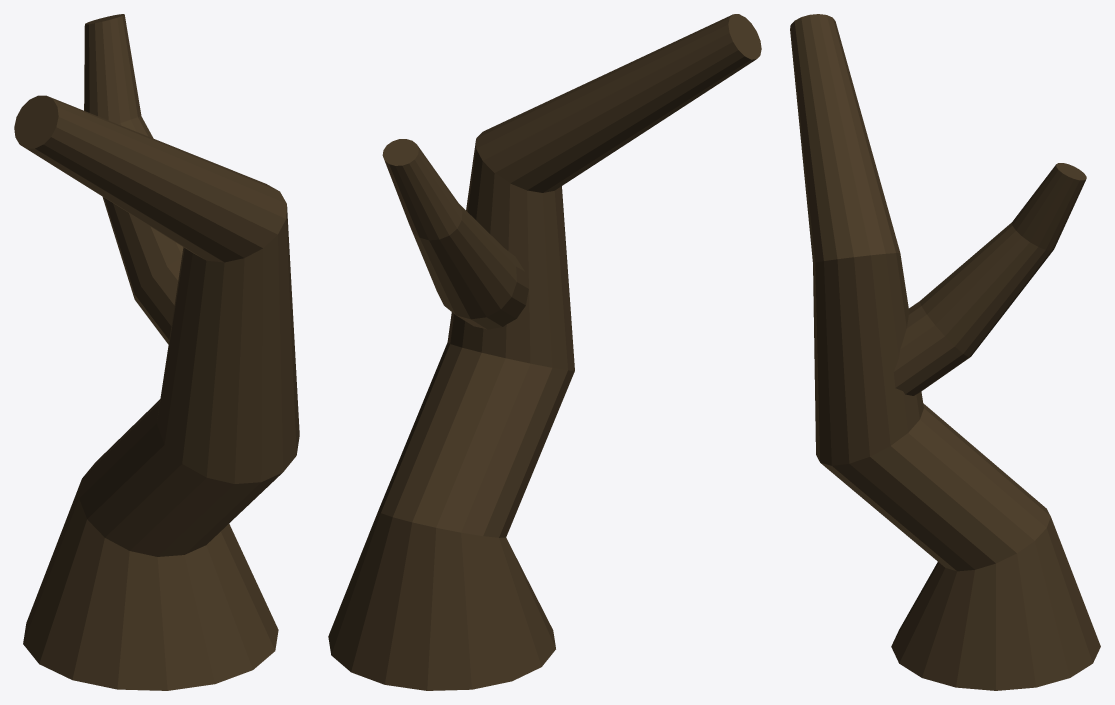
Rendered from roots.fbx.
3 views of the same model, side by side, from view 1: azimuth 30°, elevation 25°; view 2: azimuth 150°, elevation 25°; view 3: azimuth 270°, elevation 25° (orthographic). The views are drawn at different scales.
Parts seen in each view (by area): view 1: Cylinder; view 2: Cylinder; view 3: Cylinder.
Part boxes in pixels (<box>): Cylinder: <box>14,14,299,690</box>; Cylinder: <box>328,14,761,690</box>; Cylinder: <box>790,14,1100,690</box>.
Bounding box in the file's own units: 868 × 1580 × 813.
